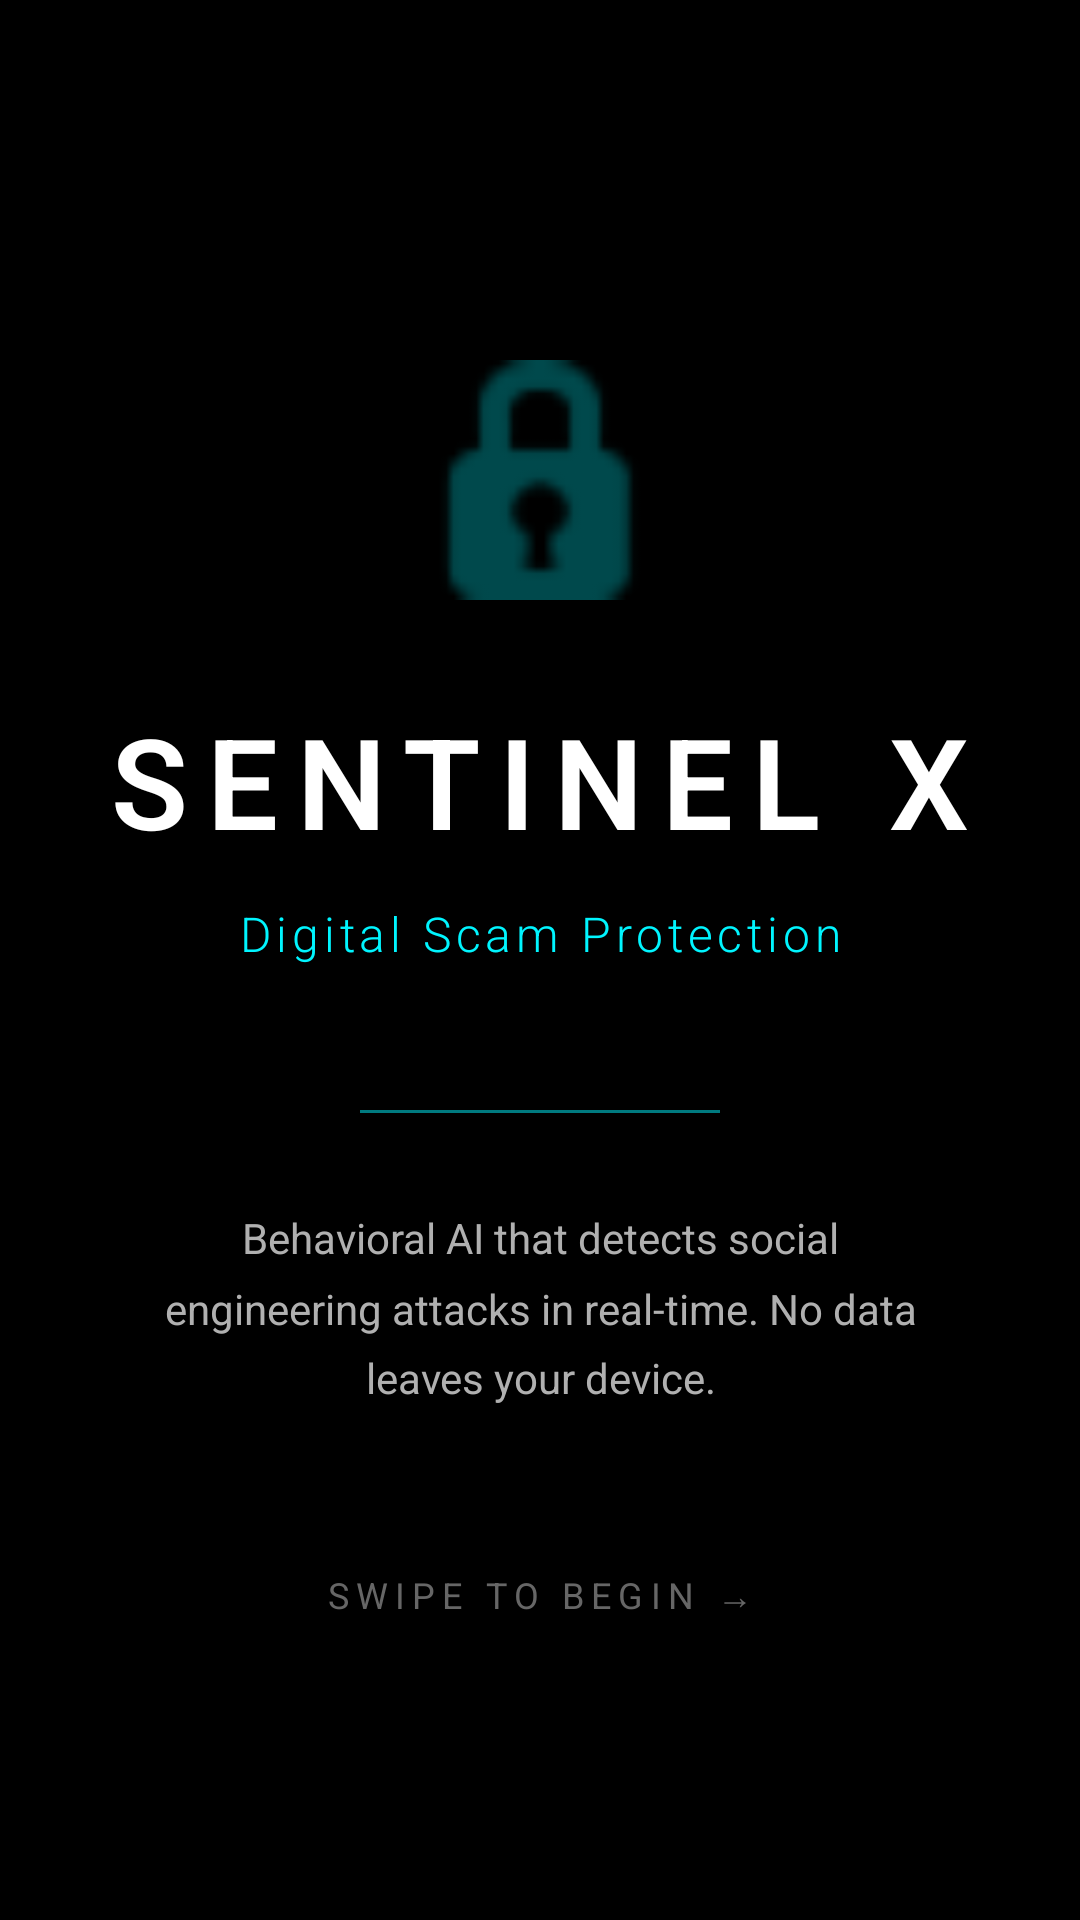

Icon click points for this 1080*1920 phone screenshot, format (x,y):
secure: (539,480)
